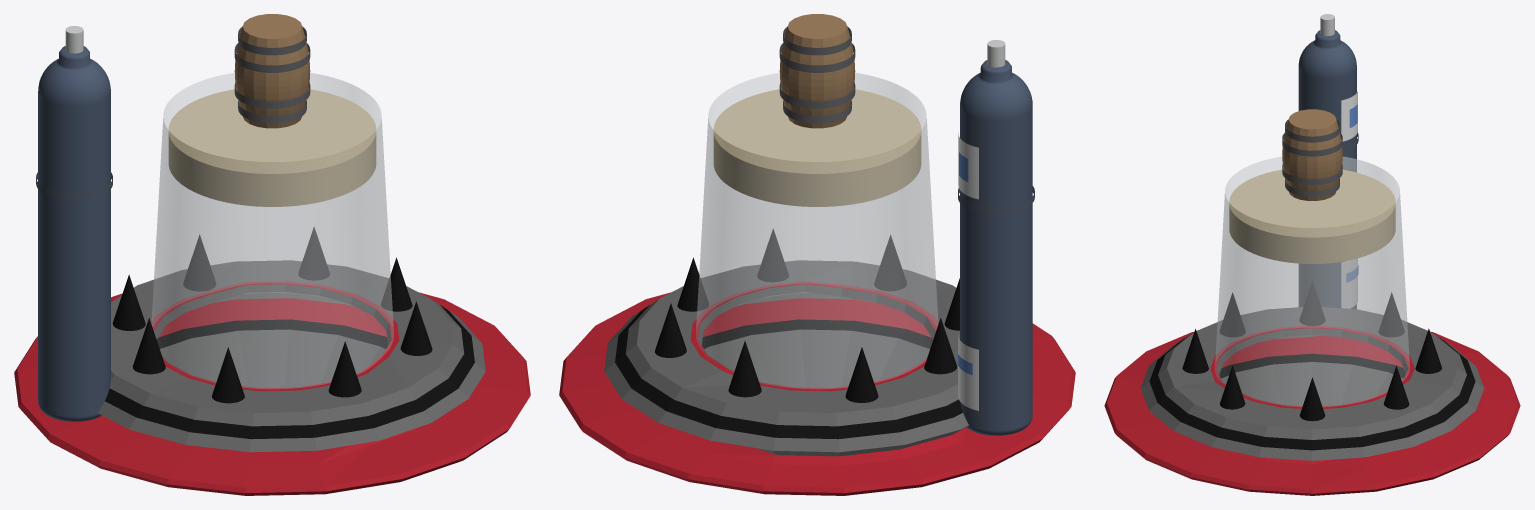
File: fable_t05.glb
3 views of the same model, side by side, from view 1: azimuth 30°, elevation 25°; view 2: azimuth 150°, elevation 25°; view 3: azimuth 270°, elevation 25° (orthographic). The views are drawn at different scales.
Visible parts, largest first — view 1: slot_anchor_saucer, glass_cover, gas_cylinder, brown_disc, wooden_barrel, wooden_barrel_hoops, gas_cylinder_band; view 2: slot_anchor_saucer, glass_cover, gas_cylinder, brown_disc, wooden_barrel, wooden_barrel_hoops, gas_cylinder_labels, gas_cylinder_band; view 3: slot_anchor_saucer, glass_cover, brown_disc, gas_cylinder, wooden_barrel, wooden_barrel_hoops, gas_cylinder_labels.
Boxes of the visible parts, x1,y1,x2,y2 form: slot_anchor_saucer: (14, 227, 530, 495); glass_cover: (151, 72, 393, 388); gas_cylinder: (38, 46, 110, 421); brown_disc: (168, 89, 376, 206); wooden_barrel: (234, 14, 310, 128); wooden_barrel_hoops: (234, 26, 310, 123); gas_cylinder_band: (36, 172, 112, 199); slot_anchor_saucer: (559, 229, 1075, 495); glass_cover: (696, 72, 938, 388); gas_cylinder: (960, 60, 1032, 435); brown_disc: (713, 89, 921, 206); wooden_barrel: (779, 14, 855, 128); wooden_barrel_hoops: (779, 26, 855, 123); gas_cylinder_labels: (958, 133, 978, 410); gas_cylinder_band: (958, 186, 1034, 213); slot_anchor_saucer: (1104, 281, 1520, 495); glass_cover: (1215, 156, 1409, 406); brown_disc: (1229, 169, 1395, 263); gas_cylinder: (1298, 30, 1356, 308); wooden_barrel: (1282, 109, 1342, 200); wooden_barrel_hoops: (1282, 119, 1342, 196); gas_cylinder_labels: (1341, 91, 1357, 308).
Bounding box in the file's own units: 2 × 2.01 × 2.
10 materials, 1 textured.
